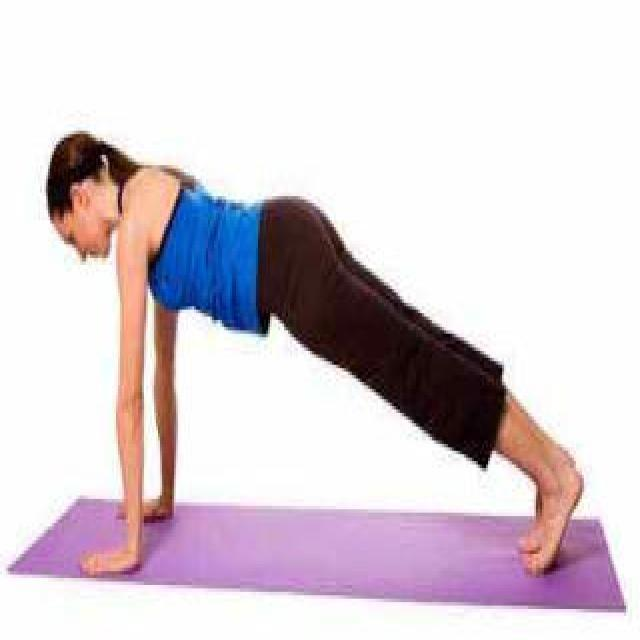yoga-pose plank: (42, 127, 588, 586)
